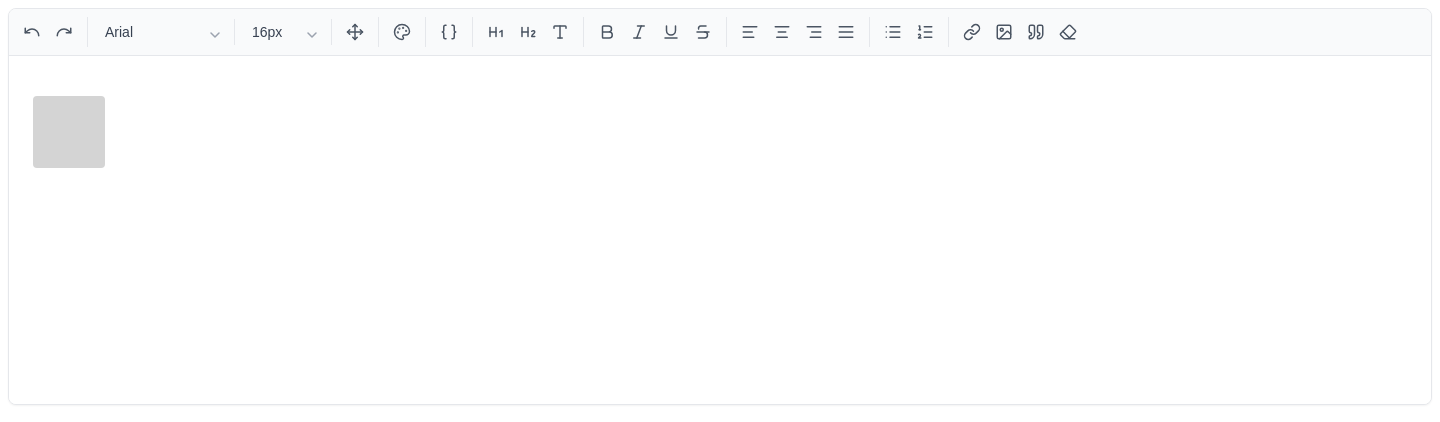
Test: EmailEditor image features (plan 019) › rejects javascript: image link wrap and restores the previous href draft
Click the link.
click(69, 162)  # box x1=33 y1=154 x2=105 y2=171
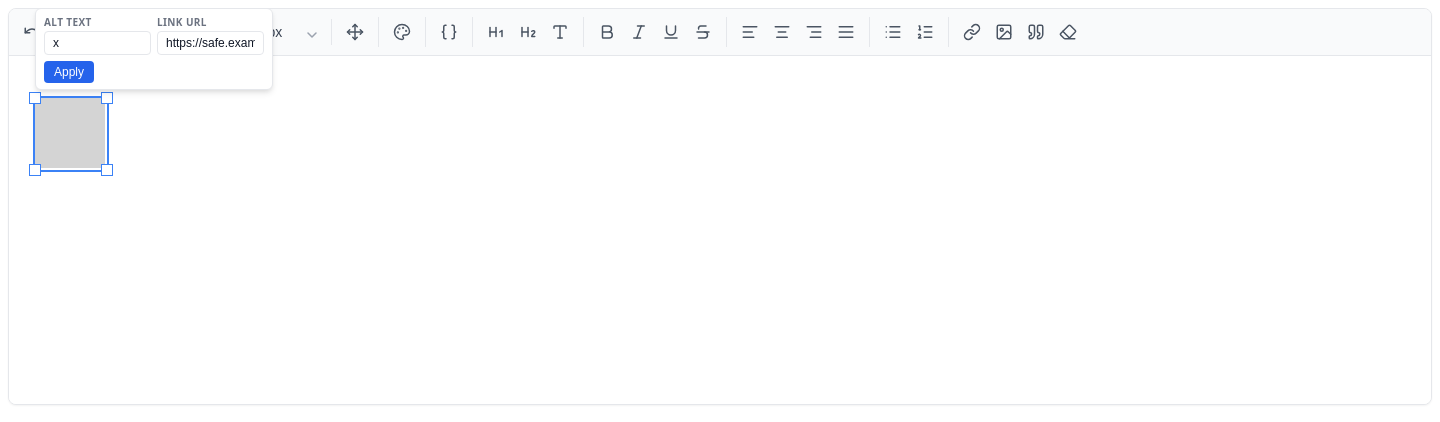
Replace the text in the field named "Selected image link URL" with "javascript:alert(1)" at (210, 43), box x1=157 y1=31 x2=264 y2=55
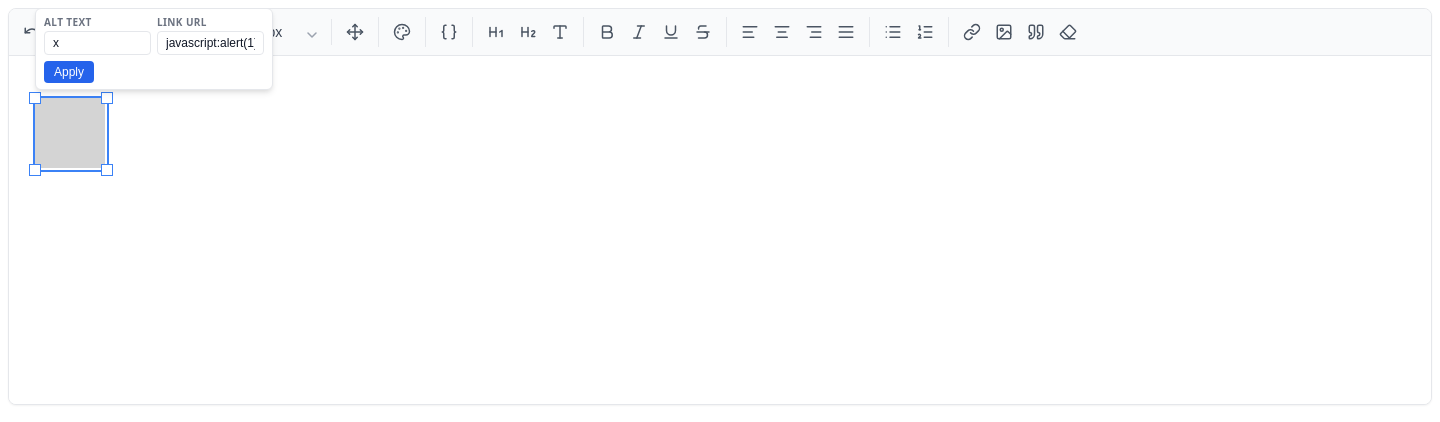
Press the mouse on the button "Apply" at (69, 72), box x1=44 y1=61 x2=94 y2=83
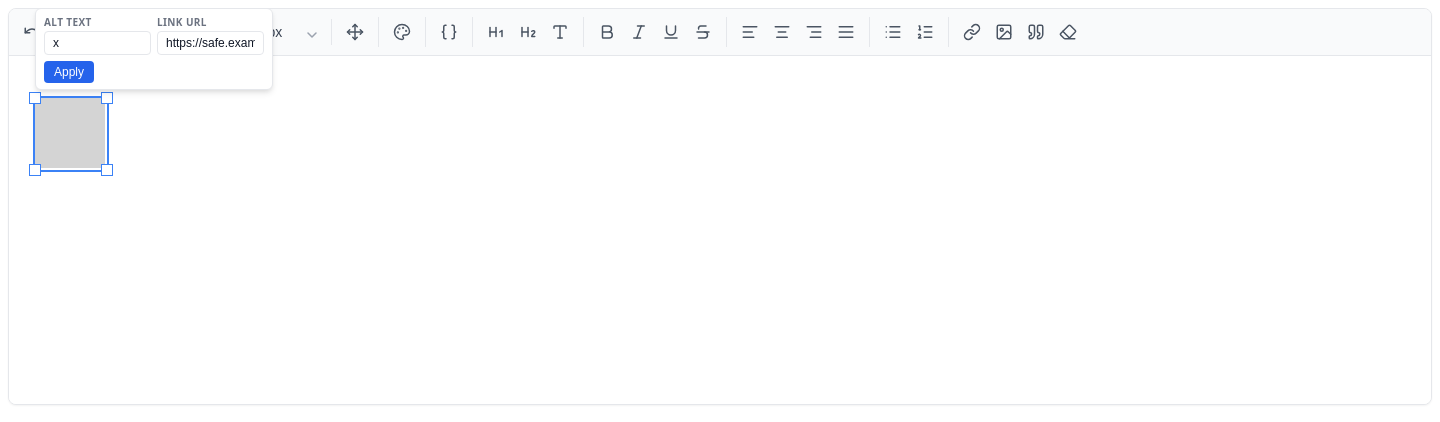
Check: the field named "Selected image link URL" holds "https://safe.example.com", box x1=157 y1=31 x2=264 y2=55
